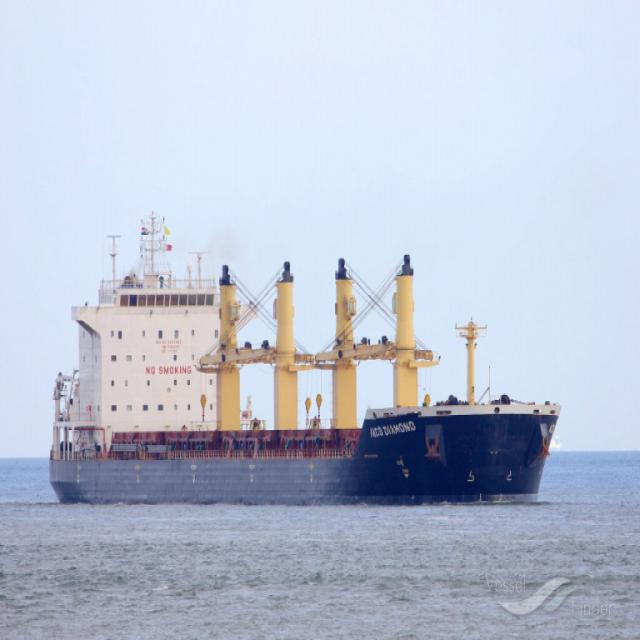OCR: (370, 413, 418, 448)
